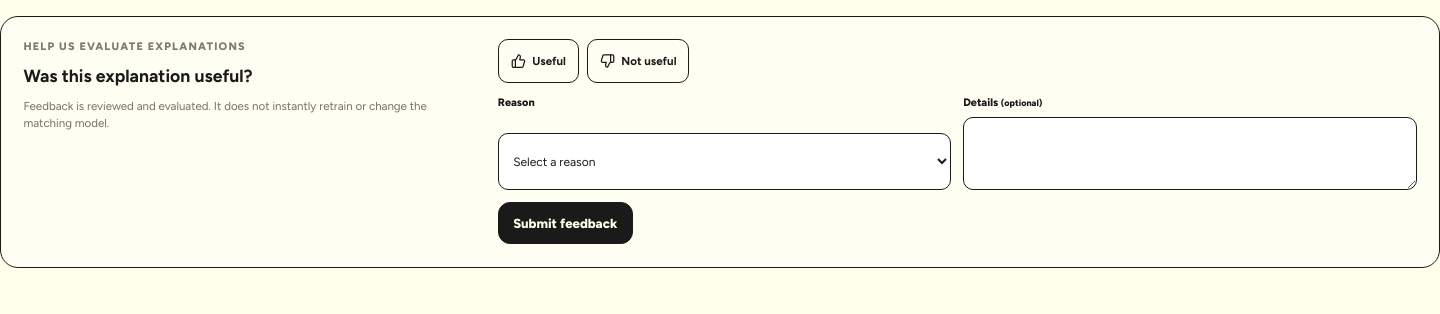
Test case: match detail components › submits useful feedback with a structured reason
Click the button "Useful": (538, 61) [498,39,579,83]
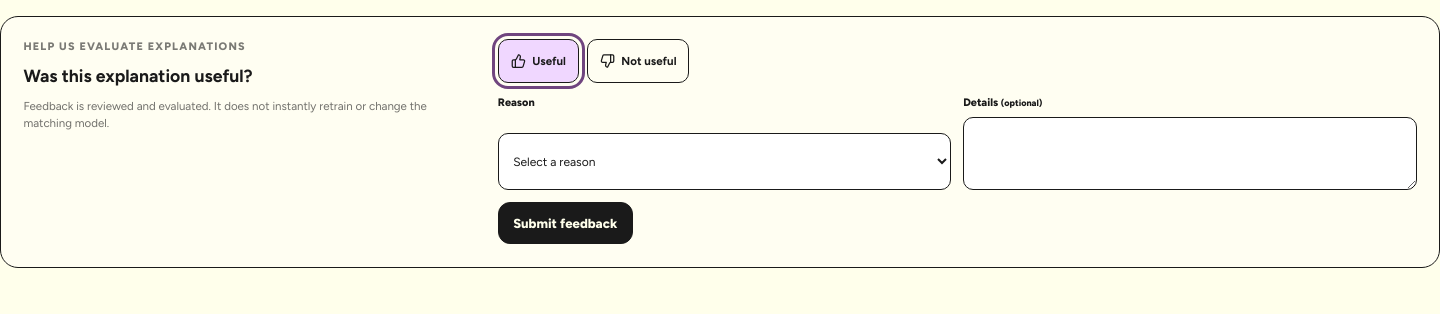
Select "Accurate and clear" in the dropdown labelled "Reason": (724, 162) [498,133,951,190]
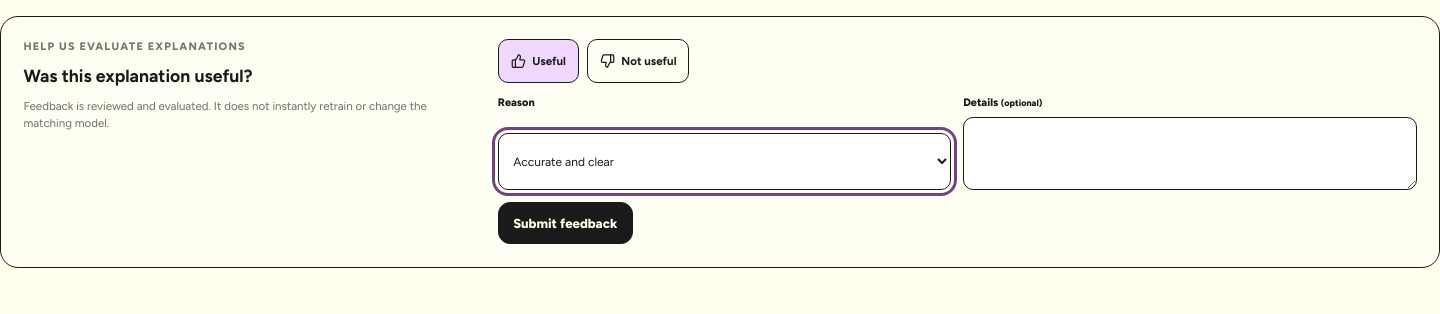
In the text box labelled "Details (optional)": (1190, 154) [963,117,1417,190], type "The requirement links helped."
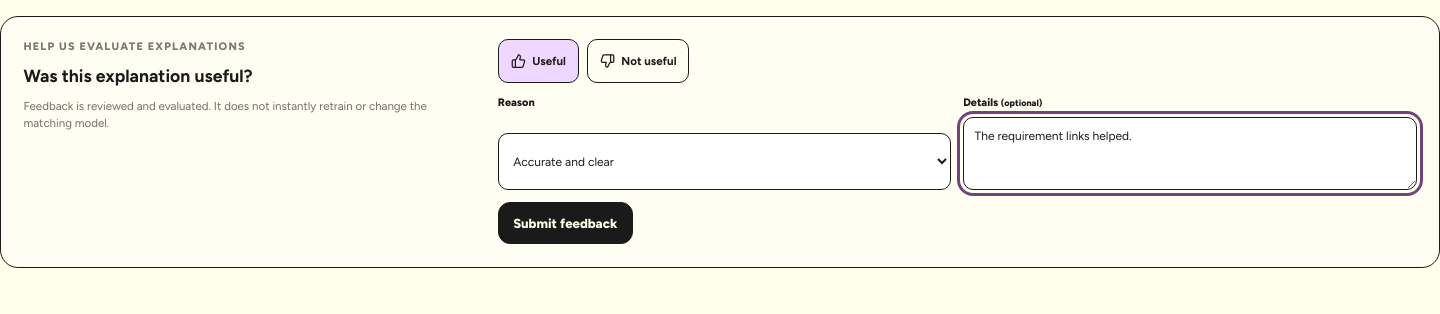
Click the button "Submit feedback": (565, 224) [498,202,633,244]
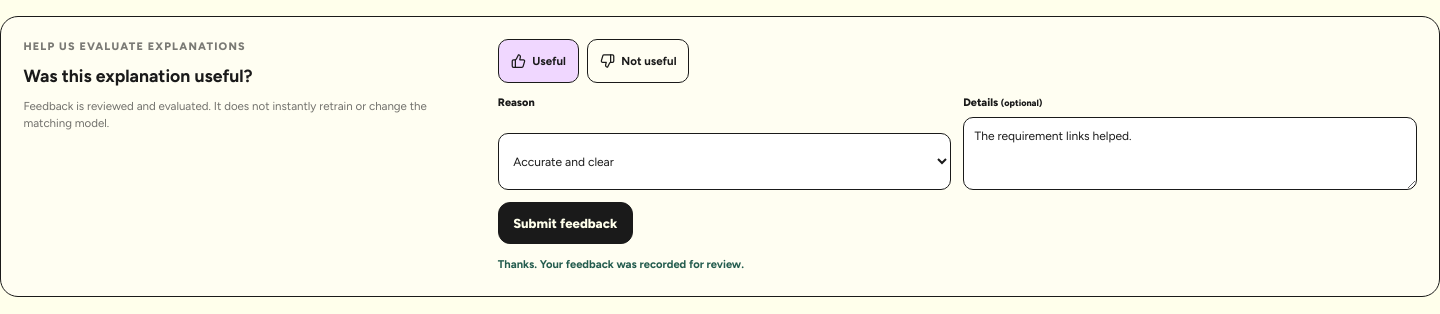
expect the text "does not instantly retrain" is shown: met, box [23,99,427,130]
expect the text "Thanks. Your feedback was recorded for review." is shown: met, box [498,256,744,273]
